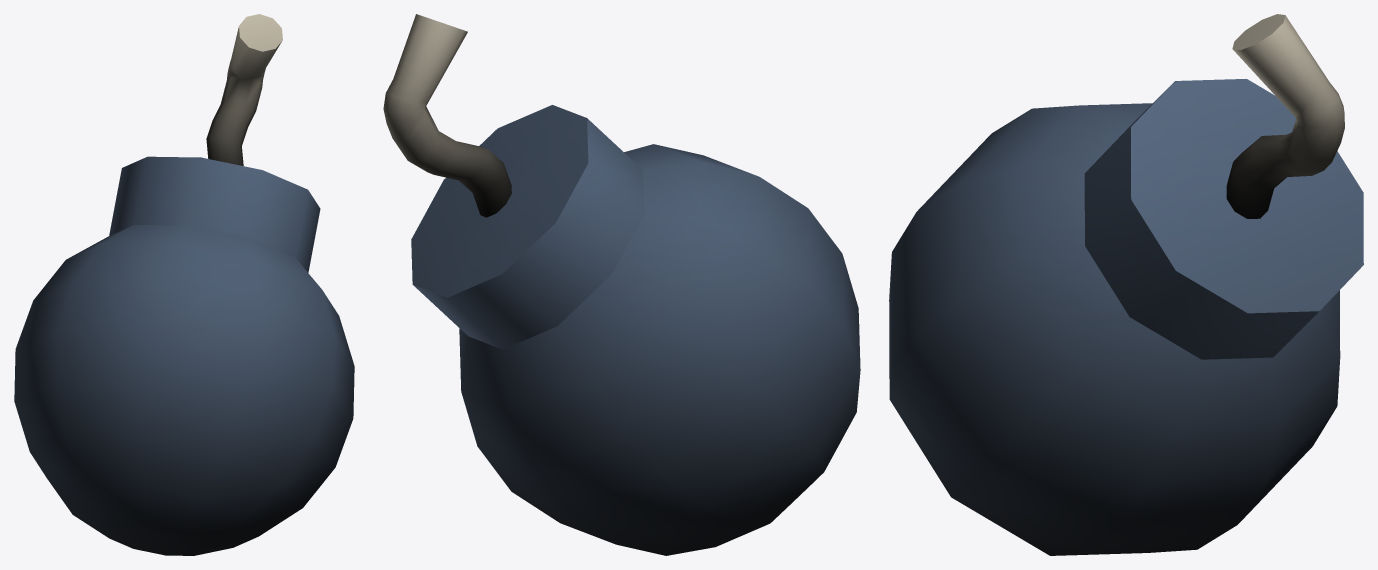
File: bomb.fbx
3 renders of one model, left to right at view 1: azimuth 30°, elevation 25°; view 2: azimuth 150°, elevation 25°; view 3: azimuth 270°, elevation 25°, orthographic. The views are drawn at different scales.
Visible parts, largest first — view 1: pSphere6; view 2: pSphere6; view 3: pSphere6.
Boxes of the visible parts, x1,y1,x2,y2 form: pSphere6: (14,14,354,555); pSphere6: (383,14,860,555); pSphere6: (889,14,1363,555).
Bounding box in the file's own units: 2.02 × 2.85 × 2.01.
